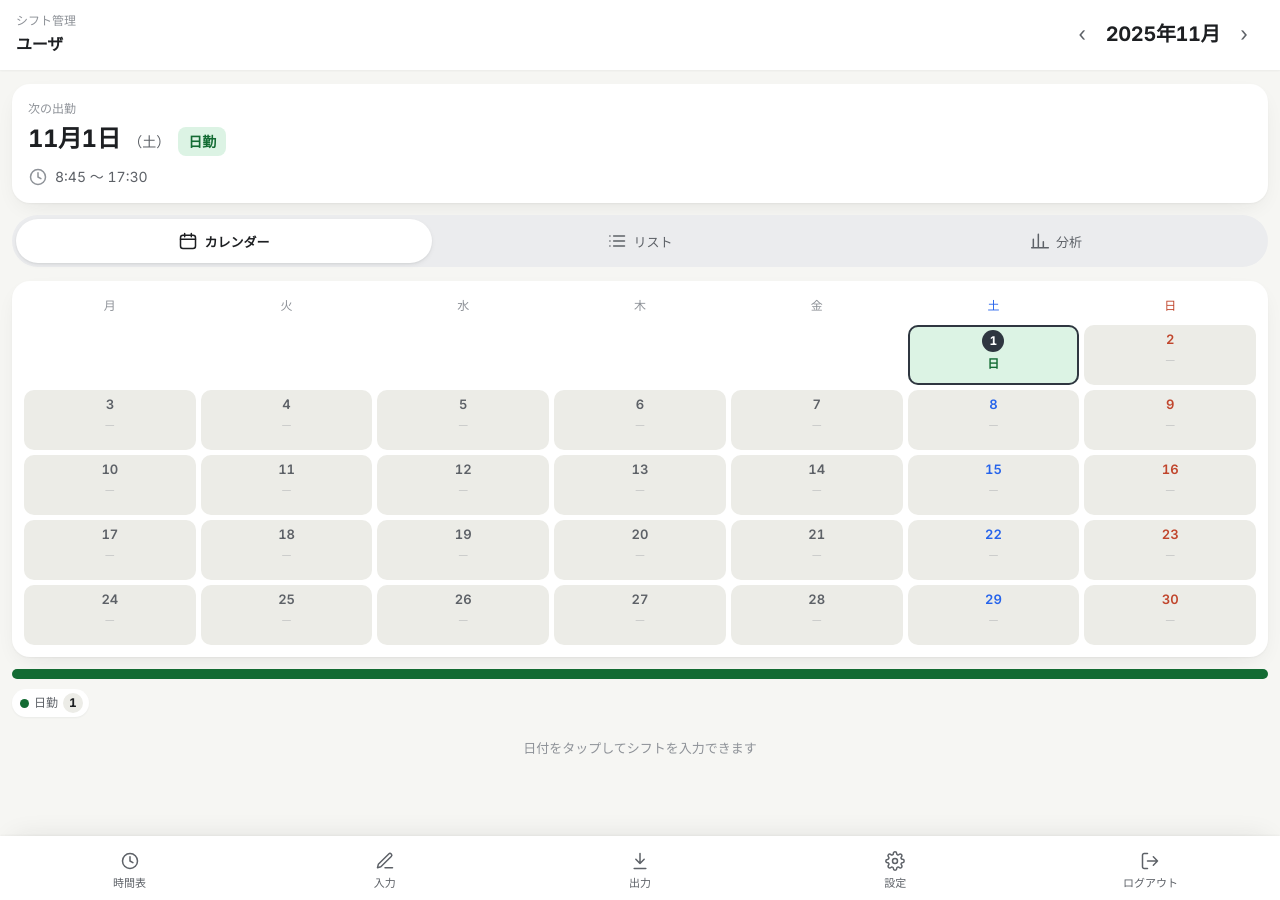
分析ビュー › ヘルプに疲労度の水準としきい値が出る
Click the button "分析" at coordinates (1056, 241), box [848,219,1264,263]
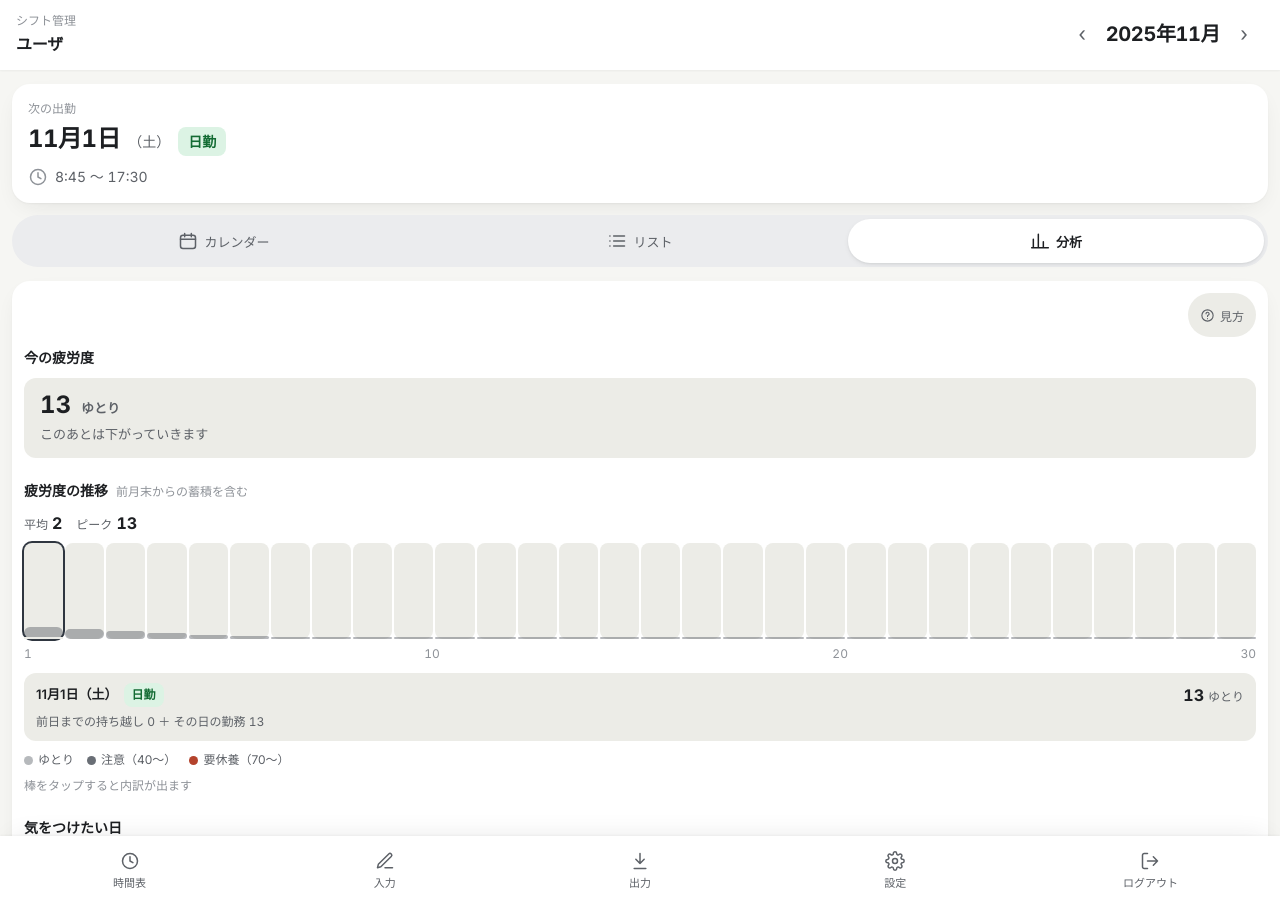
Click the button "見方" at coordinates (1222, 315), box [1188,293,1256,337]
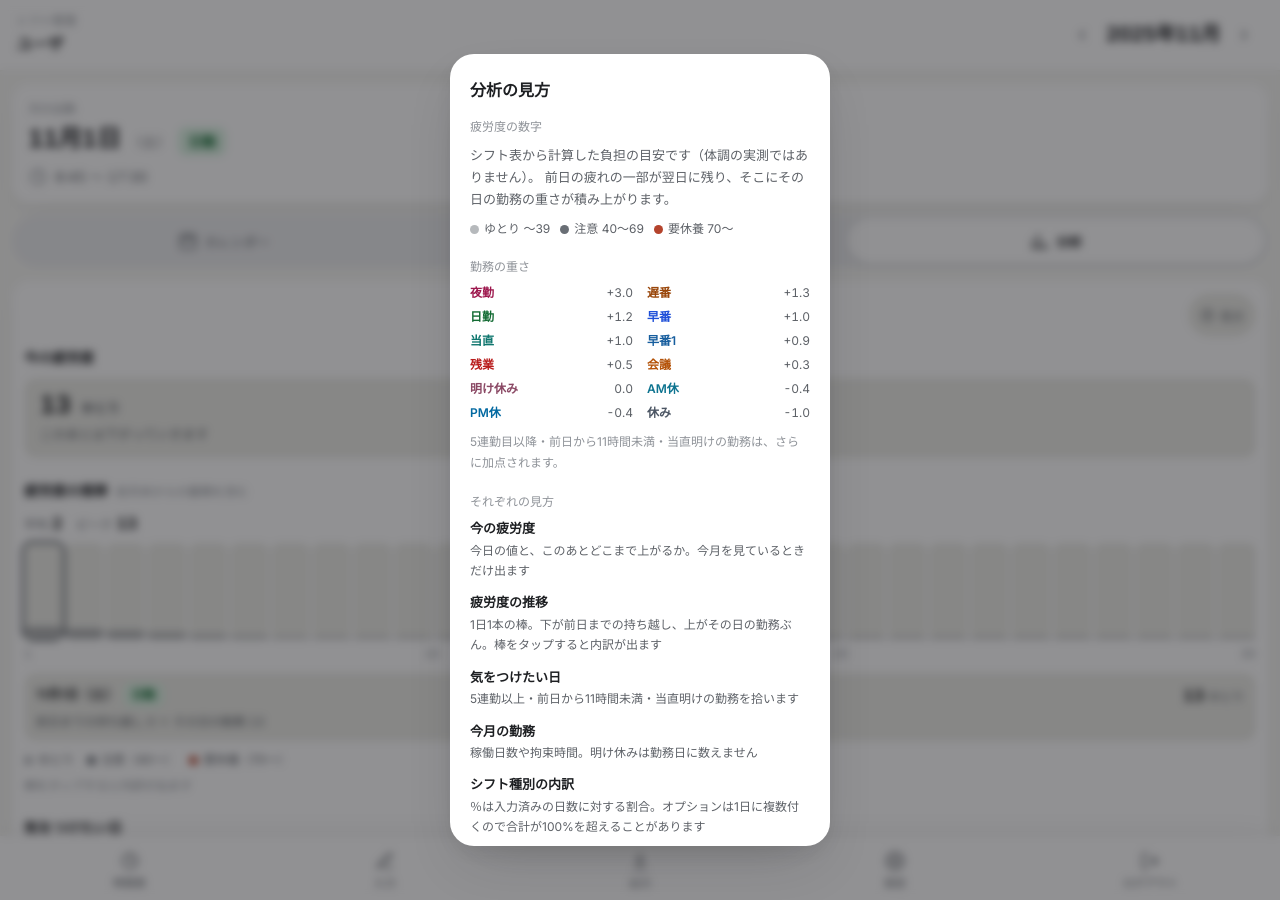
Expected: the element with test id "analysis-help" shows "ゆとり 〜39", [450,54,830,846]
Expected: the element with test id "analysis-help" shows "注意 40〜69", [450,54,830,846]
Expected: the element with test id "analysis-help" shows "要休養 70〜", [450,54,830,846]
